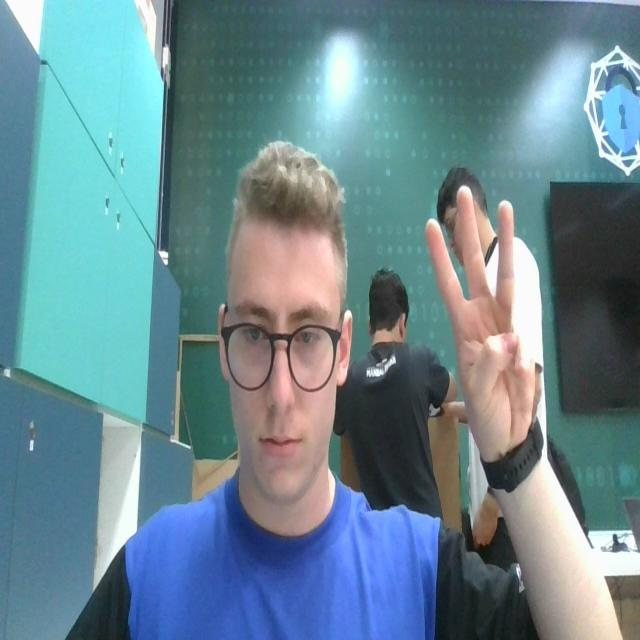W: (425, 185, 540, 453)
